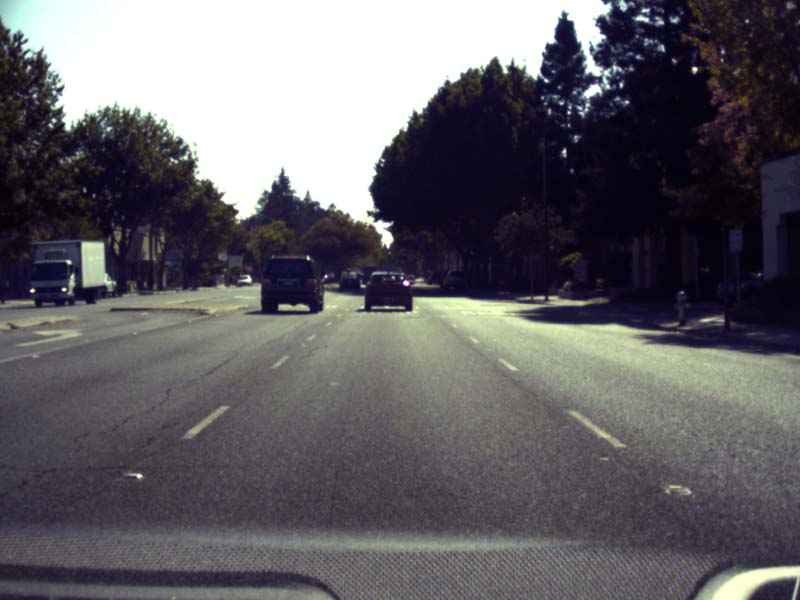Yellow: (385, 249, 391, 257), (347, 262, 349, 270)
